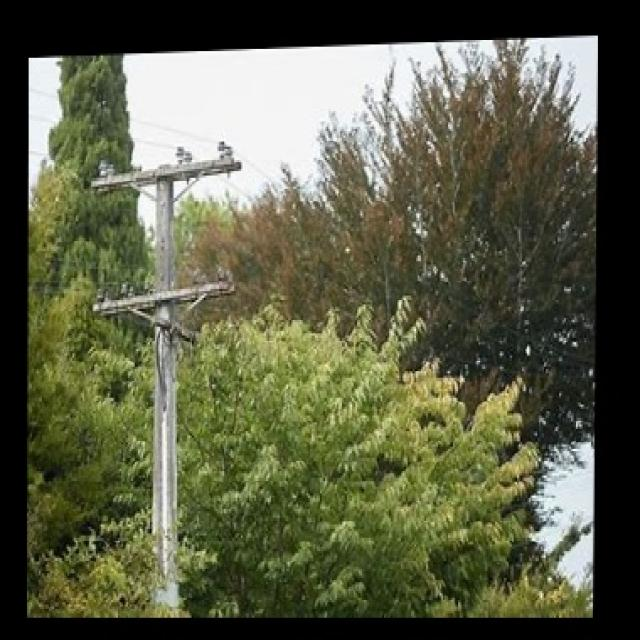utility poles: (87, 142, 251, 616)
